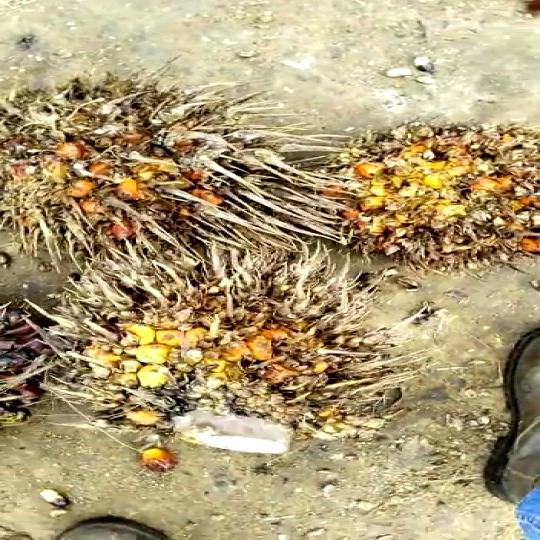terlalu masak: (36, 245, 436, 447), (0, 66, 305, 262), (300, 120, 540, 271)
